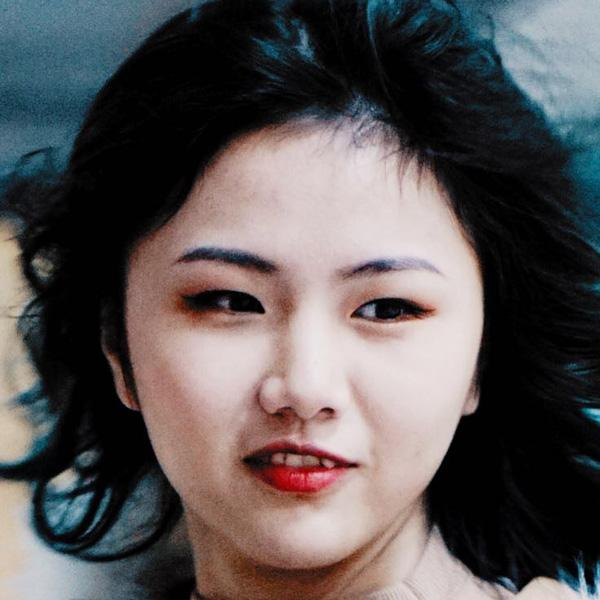Eyes: (343, 283, 440, 343), (178, 276, 272, 331)
